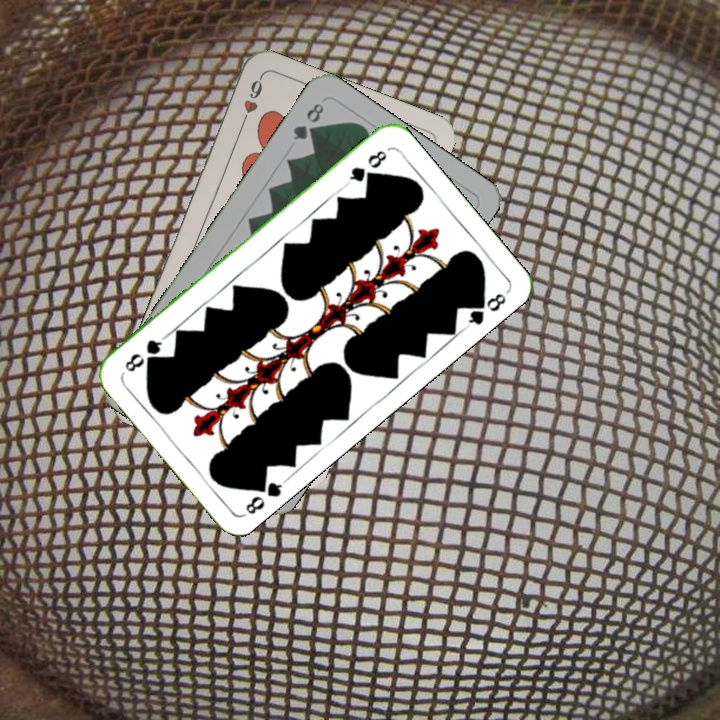G8: (240, 473, 290, 518), (342, 146, 390, 188), (289, 99, 327, 143)
H9: (236, 73, 265, 130)
